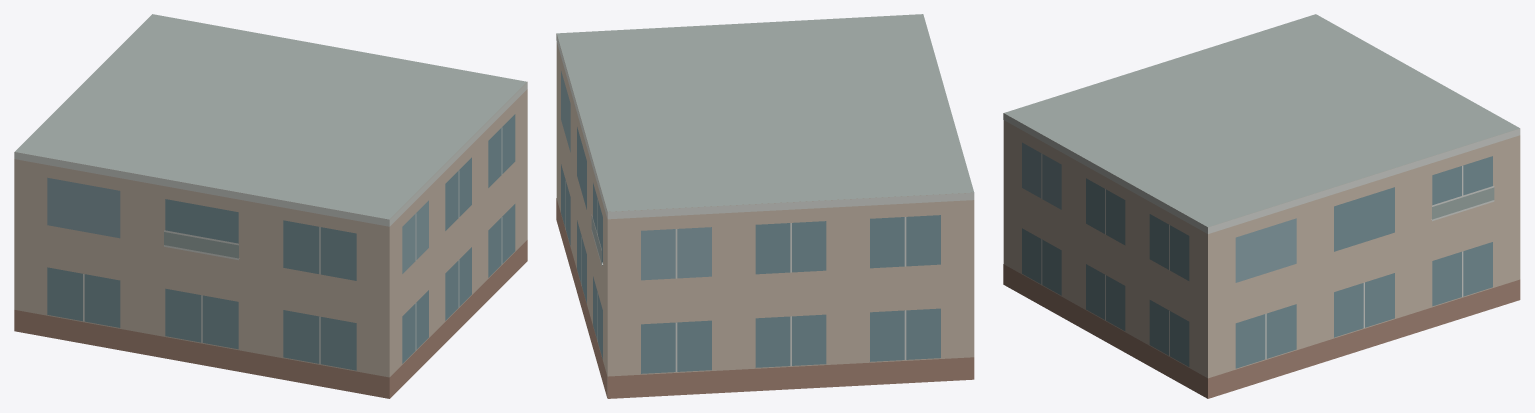
Rendered from survey-upis-32802296.glb.
3 views of the same model, side by side, from view 1: azimuth 30°, elevation 25°; view 2: azimuth 150°, elevation 25°; view 3: azimuth 270°, elevation 25° (orthographic). The views are drawn at different scales.
Visible parts, largest first — view 1: survey-upis-32802296.tmp; view 2: survey-upis-32802296.tmp; view 3: survey-upis-32802296.tmp.
Boxes of the visible parts, x1,y1,x2,y2 form: survey-upis-32802296.tmp: (14,14,527,398); survey-upis-32802296.tmp: (556,14,974,398); survey-upis-32802296.tmp: (1003,14,1520,398).
Size of the model in its own units: 16.27 by 6.1 by 16.66.
